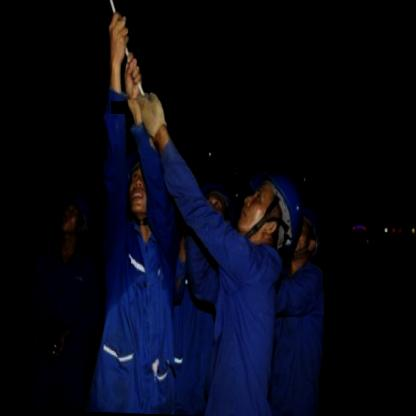helmet: (234, 165, 308, 251), (56, 189, 94, 258), (286, 206, 324, 268), (197, 178, 233, 238)
